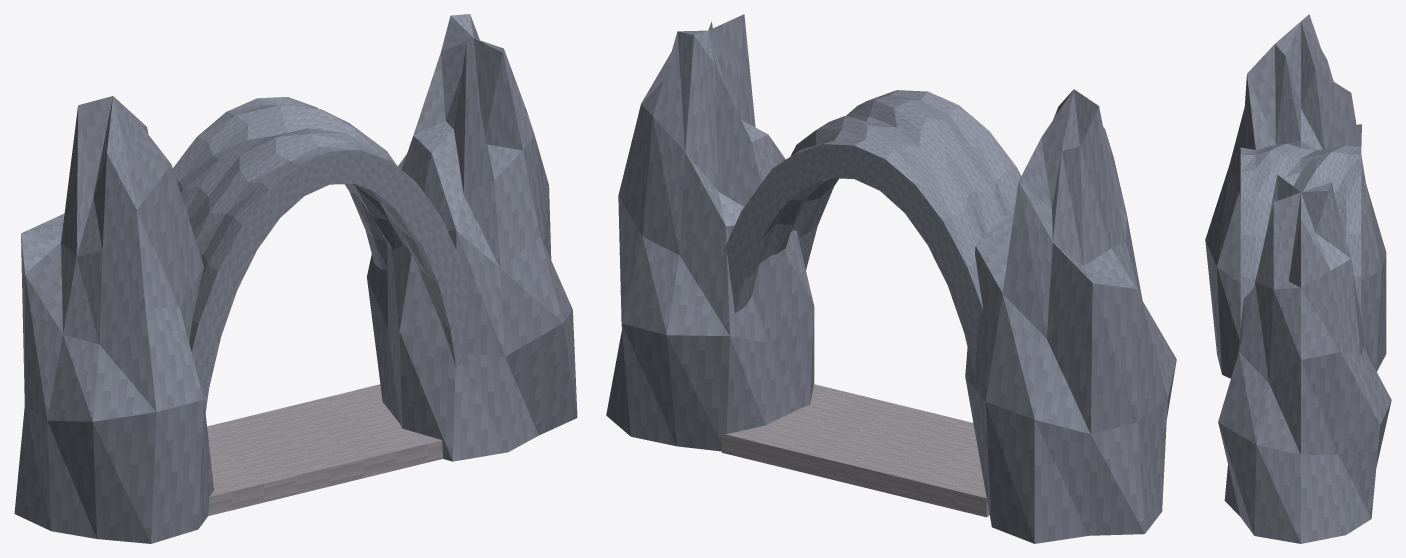
The model's file is cave-and-crystal-networks-cliff-cave-mouth-1fad3752.glb.
3 renders of one model, left to right at view 1: azimuth 30°, elevation 25°; view 2: azimuth 150°, elevation 25°; view 3: azimuth 270°, elevation 25°, orthographic. The views are drawn at different scales.
Parts seen in each view (by area): view 1: cliff-cave-mouth; view 2: cliff-cave-mouth; view 3: cliff-cave-mouth.
Part boxes in pixels (box(x1,y1,x2,y2)): cliff-cave-mouth: box(14, 14, 577, 543); cliff-cave-mouth: box(606, 14, 1176, 543); cliff-cave-mouth: box(1205, 14, 1391, 543).
Bounding box in the file's own units: 5.99 × 4.32 × 2.16.
2 materials, 2 textured.
